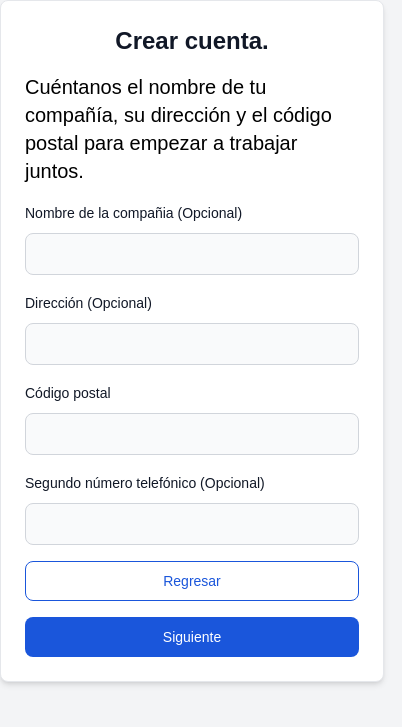
Test: CompanyDetails › shows validation error for empty postal code
Click the button "Siguiente" at (192, 637), box [25,617,359,657]
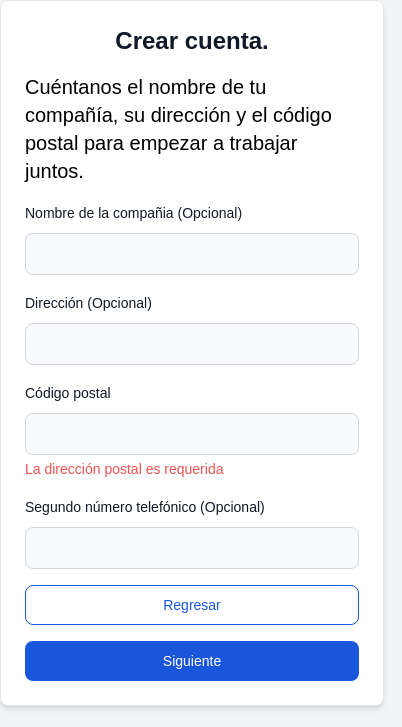
Expected: the text "La dirección postal es requerida" is shown, [25,461,224,477]
